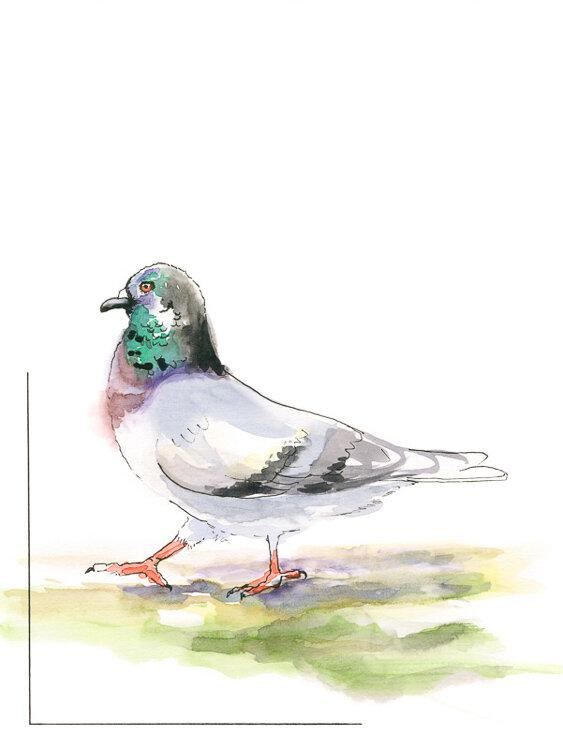Flying Rat: (73, 256, 493, 618)
